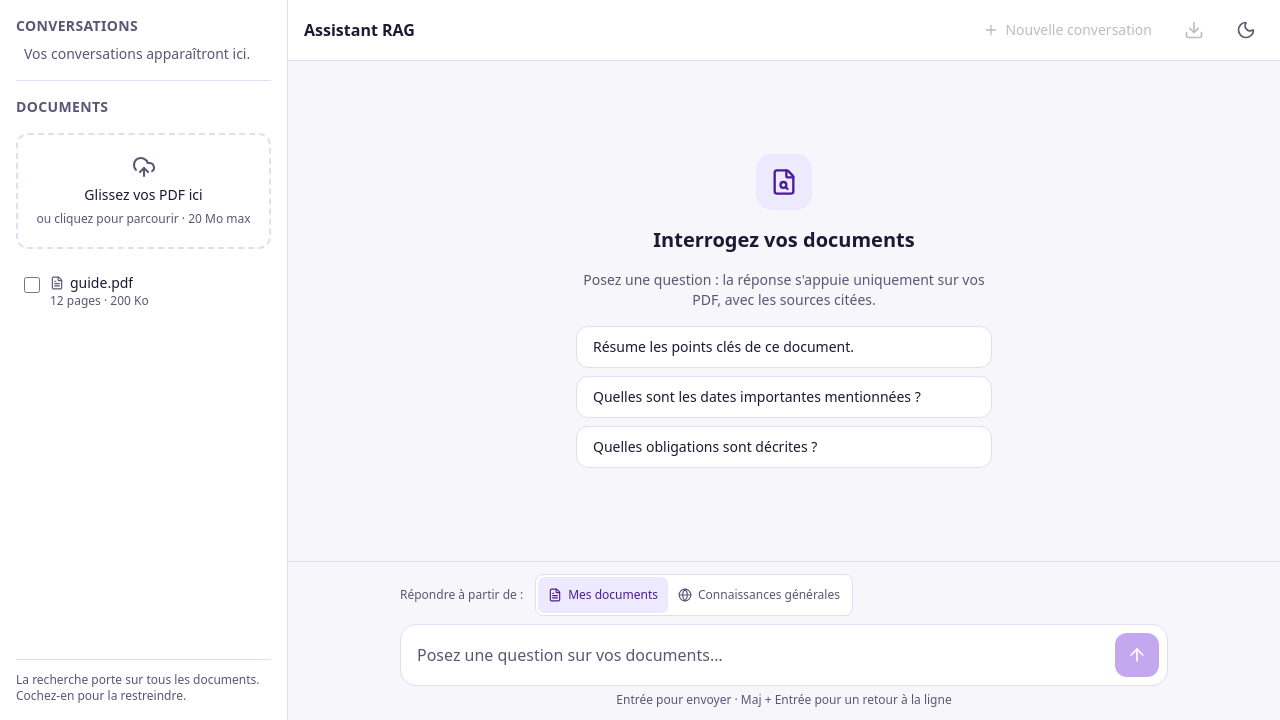
Test: App › shows a clear message when the server is unreachable
Expected: the text "guide.pdf" is shown, x1=70 y1=273 x2=133 y2=293
Type "Q" into the text box named "Votre question". click: (758, 655)
box: x1=409 y1=633 x2=1107 y2=677
Then press Enter
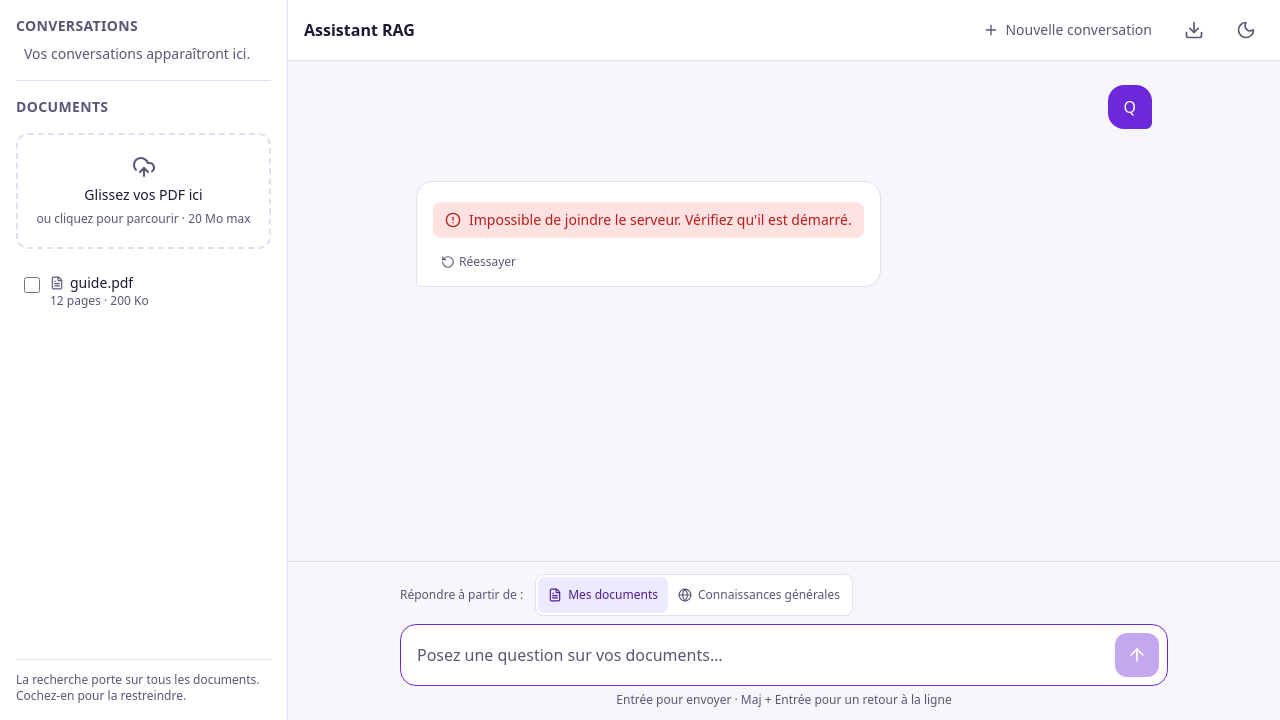
Expected: the message shows "Impossible de joindre le serveur", x1=469 y1=210 x2=852 y2=229
